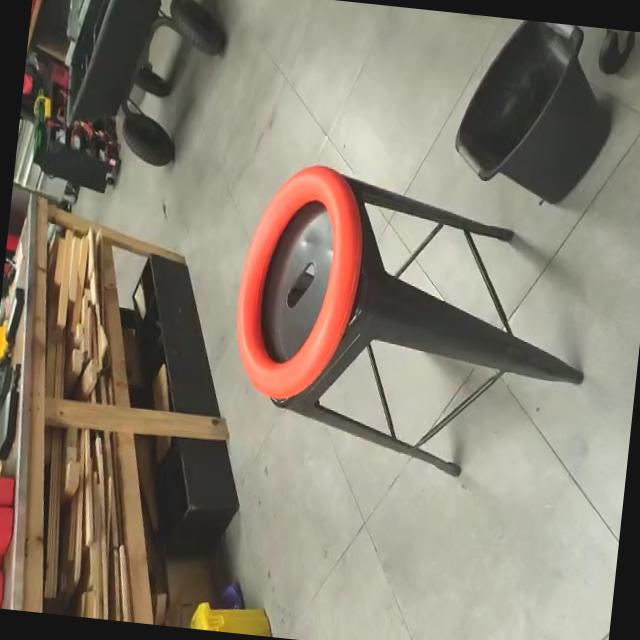note: (224, 156, 371, 408)
